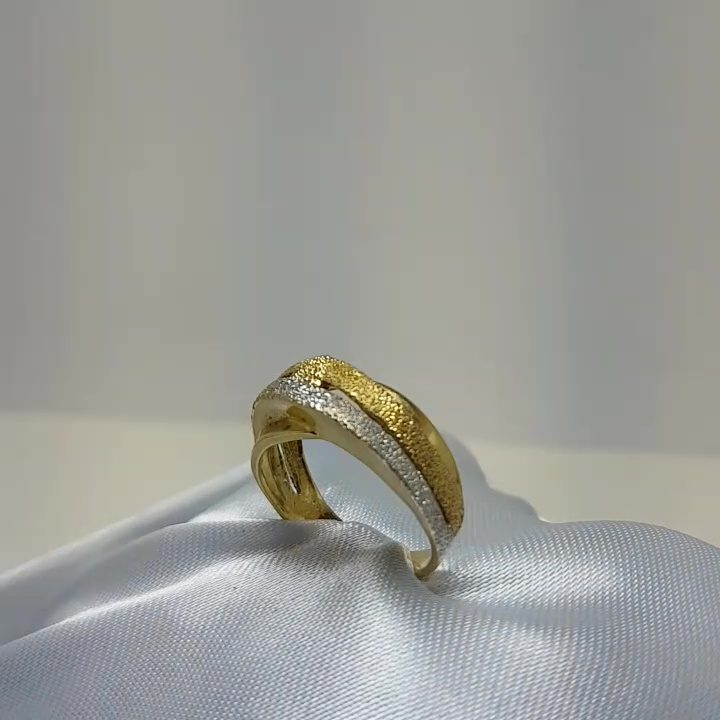Ring 5: (237, 345, 474, 586)
